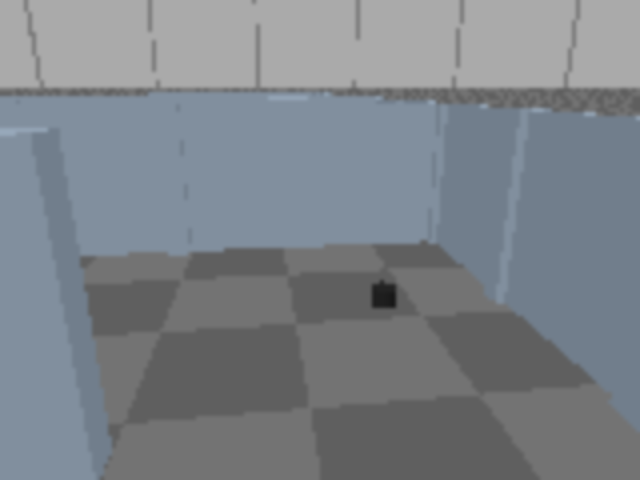puck: (372, 283, 395, 308)
